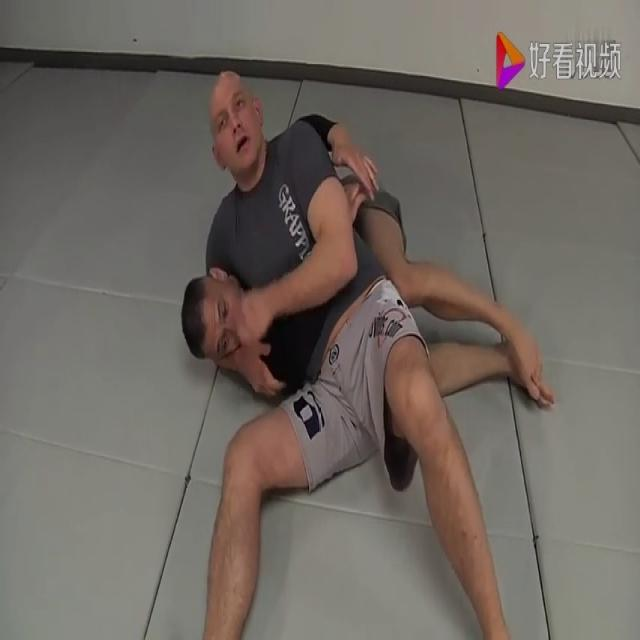fight: (179, 58, 553, 639)
